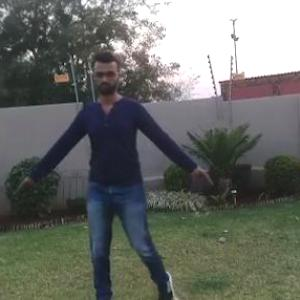land: (26, 61, 204, 299)
